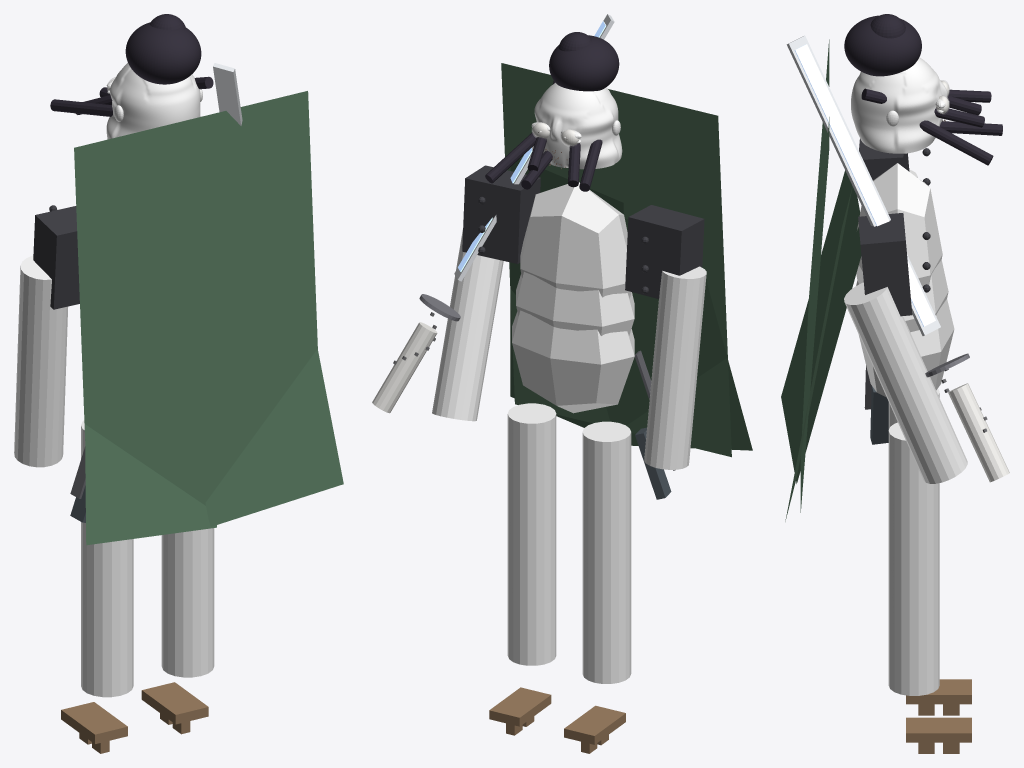
File: ronin_character_v0.3.glb
The picture shows the model from 3 angles, left to right: view 1: azimuth 30°, elevation 25°; view 2: azimuth 150°, elevation 25°; view 3: azimuth 270°, elevation 25°; orthographic projection. The views are drawn at different scales.
Visible parts, largest first — view 1: Cloth_Haori_0, Cloth_Haori_2, Cloth_Sleeve_L, Cloth_Haori_1, Cloth_Leg_L, Cloth_Leg_R, Skin_Head, Metal_Pauldron_L, Hair_Bun, Cloth_GetaSole_R, Cloth_GetaSole_L, Metal_Blade (+1 smaller); view 2: Cloth_Haori_0, Cloth_Leg_R, Cloth_Leg_L, Cloth_KimonoLayer_0, Cloth_Sleeve_L, Cloth_KimonoLayer_2, Cloth_Sleeve_R, Cloth_Haori_1, Metal_Pauldron_L, Skin_Head, Metal_Pauldron_R, Cloth_KimonoLayer_1 (+8 smaller); view 3: Cloth_Leg_R, Cloth_Sleeve_R, Cloth_Haori_1, Skin_Head, Cloth_KimonoLayer_0, Metal_Pauldron_R, Metal_HamonLine, Hair_Bun, Cloth_Haori_0, Cloth_Tsuka, Metal_Blade, Cloth_KimonoLayer_2 (+12 smaller).
Part boxes in pixels (x1,y1,x2,y2): Cloth_Haori_0: (74,91,317,505); Cloth_Haori_2: (205,349,343,526); Cloth_Sleeve_L: (14,255,67,467); Cloth_Haori_1: (85,424,216,545); Cloth_Leg_L: (81,420,133,697); Cloth_Leg_R: (161,528,214,677); Skin_Head: (106,63,200,139); Metal_Pauldron_L: (33,206,79,309); Hair_Bun: (125,22,201,84); Cloth_GetaSole_R: (141,682,208,724); Cloth_GetaSole_L: (61,702,127,743); Metal_Blade: (213,63,242,125); Cloth_Haori_0: (501,63,731,457); Cloth_Leg_R: (507,403,556,665); Cloth_Leg_L: (582,421,631,683); Cloth_KimonoLayer_0: (520,182,631,298); Cloth_Sleeve_L: (644,266,706,469); Cloth_KimonoLayer_2: (512,310,634,413); Cloth_Sleeve_R: (432,230,503,421); Cloth_Haori_1: (606,219,752,450); Metal_Pauldron_L: (625,205,704,298); Skin_Head: (532,82,622,169); Metal_Pauldron_R: (462,165,540,263); Cloth_KimonoLayer_1: (516,272,634,335); Cloth_Leg_R: (888,422,939,695); Cloth_Sleeve_R: (844,282,967,483); Cloth_Haori_1: (781,170,861,483); Skin_Head: (851,57,947,153); Cloth_KimonoLayer_0: (856,163,942,286); Metal_Pauldron_R: (858,213,912,316); Metal_HamonLine: (794,44,935,326); Hair_Bun: (844,15,921,76); Cloth_Haori_0: (800,39,829,512); Cloth_Tsuka: (948,383,1009,482); Metal_Blade: (786,35,940,335); Cloth_KimonoLayer_2: (859,299,954,396).
Bounding box in the file's own units: 0.8253 × 1.92 × 0.5539.
